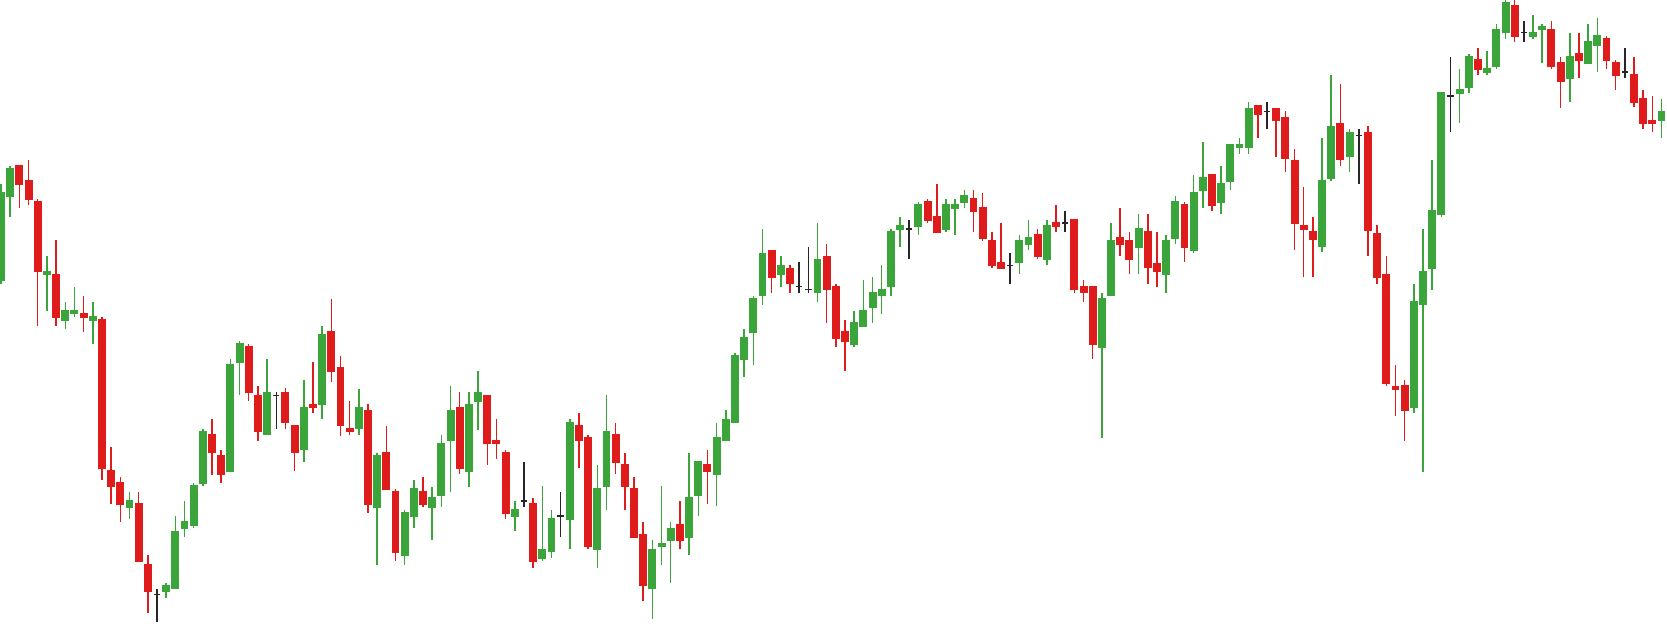buy: (1098, 235, 1419, 461), (590, 449, 661, 626)
sell: (1240, 67, 1346, 202), (236, 297, 336, 403)
